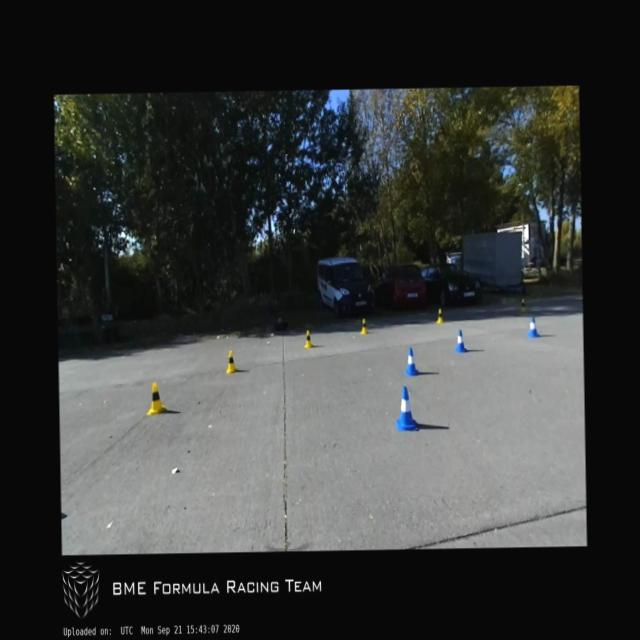blue_cone: (394, 386, 420, 431), (403, 348, 418, 375), (526, 316, 540, 338), (454, 329, 467, 352)
yellow_cone: (146, 382, 166, 416), (225, 350, 238, 372), (304, 330, 312, 348), (360, 318, 368, 334), (436, 308, 444, 324), (519, 298, 526, 312)
